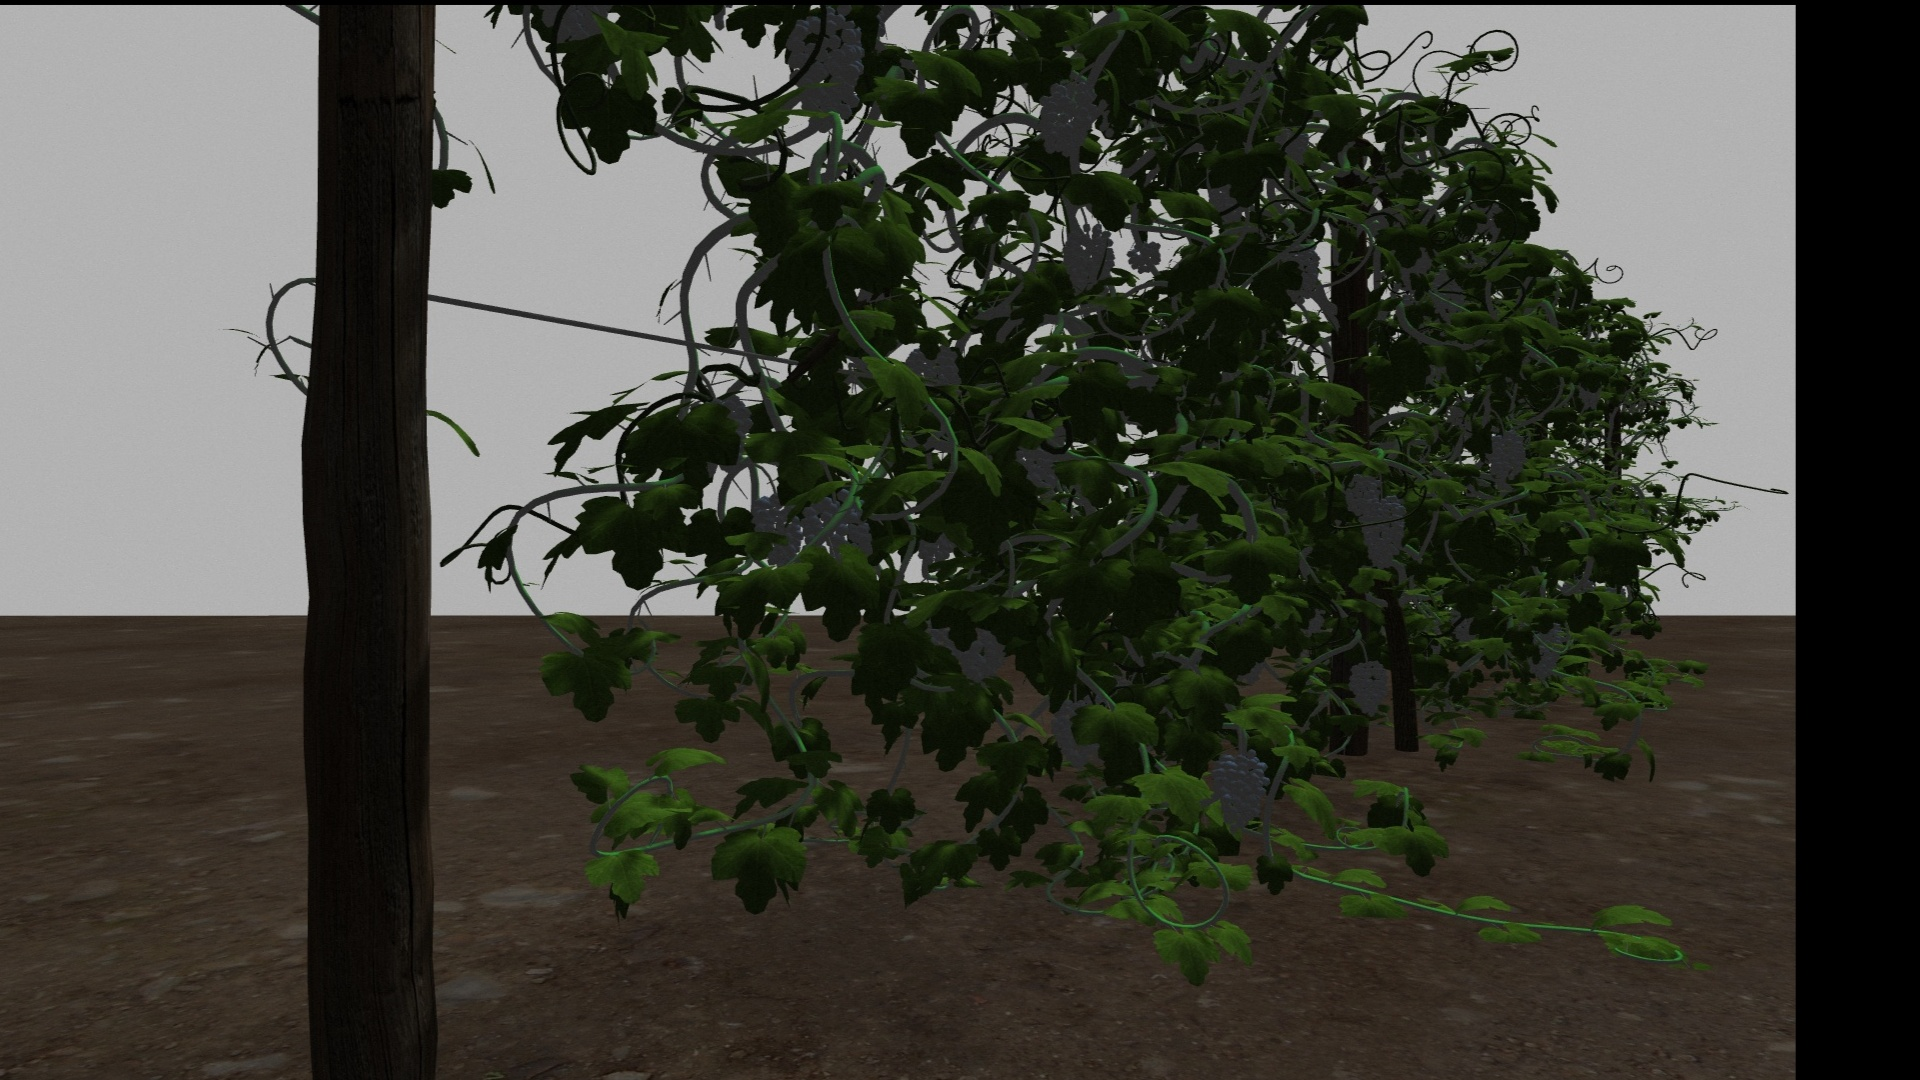grape: (787, 15, 865, 132), (1205, 746, 1273, 843), (1035, 74, 1098, 158), (800, 488, 872, 562), (1060, 219, 1116, 291), (753, 491, 803, 567), (1050, 699, 1100, 771), (1364, 501, 1404, 568), (1484, 426, 1526, 488), (1346, 659, 1389, 717), (1526, 620, 1564, 680), (1345, 472, 1378, 517), (1127, 239, 1160, 272)
